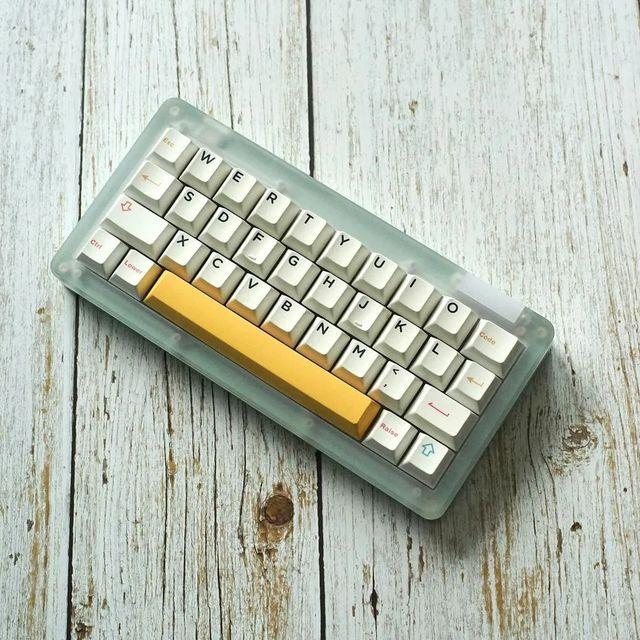mouse: (49, 96, 555, 521)
